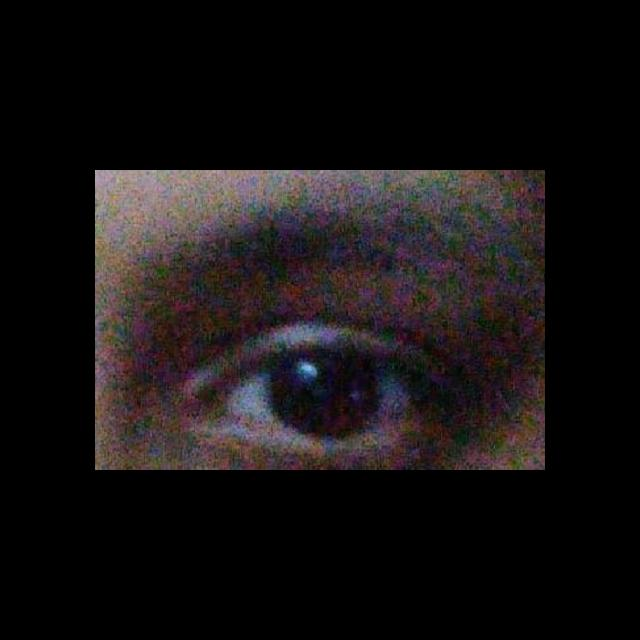eye: (215, 345, 433, 439)
iris: (270, 349, 381, 436)
